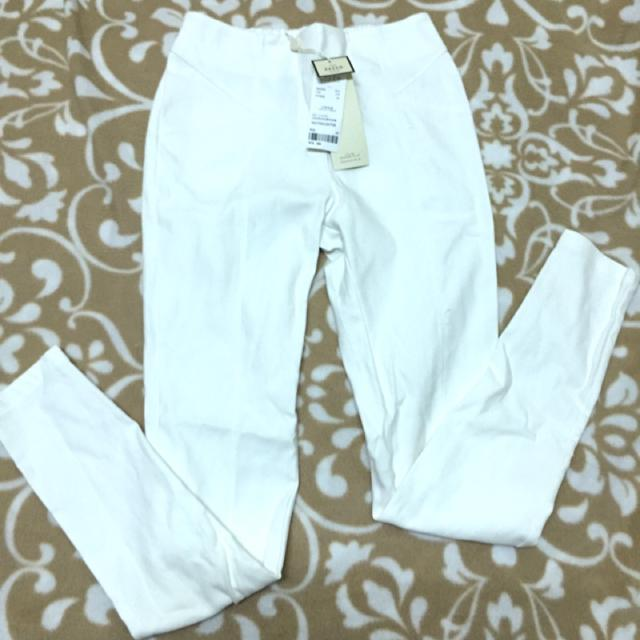Pants_Leggings: (1, 12, 635, 635)
